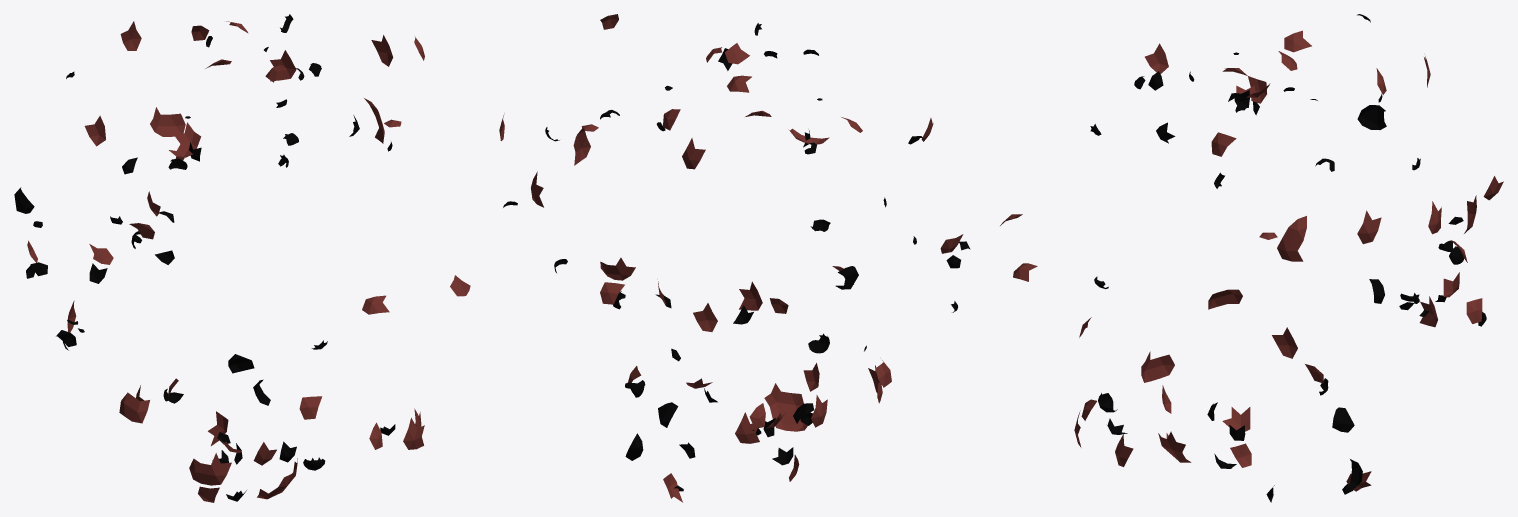
The model's file is explode.f0017.glb.
3 views of the same model, side by side, from view 1: azimuth 30°, elevation 25°; view 2: azimuth 150°, elevation 25°; view 3: azimuth 270°, elevation 25° (orthographic). The views are drawn at different scales.
Visible parts, largest first — view 1: Body.001; view 2: Body.001; view 3: Body.001.
Part boxes in pixels (x1=…): Body.001: x1=14, y1=14, x2=470, y2=502; Body.001: x1=499, y1=14, x2=970, y2=502; Body.001: x1=1000, y1=14, x2=1503, y2=502.
Bounding box in the file's own units: 13.12 × 13.49 × 13.51.
Materials: 1 (1 with a texture image).
